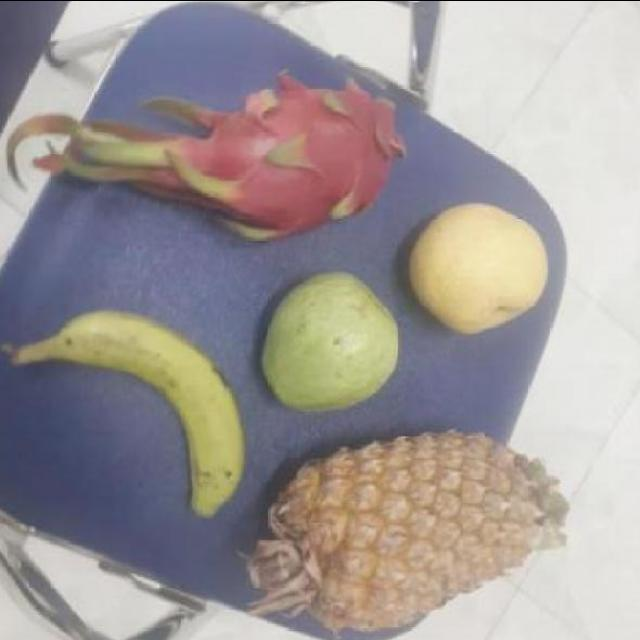banana: (35, 298, 245, 518)
dragon fruit: (176, 77, 400, 235)
guava: (258, 269, 406, 420)
pear: (408, 196, 544, 334)
pineapple: (248, 424, 560, 631)
